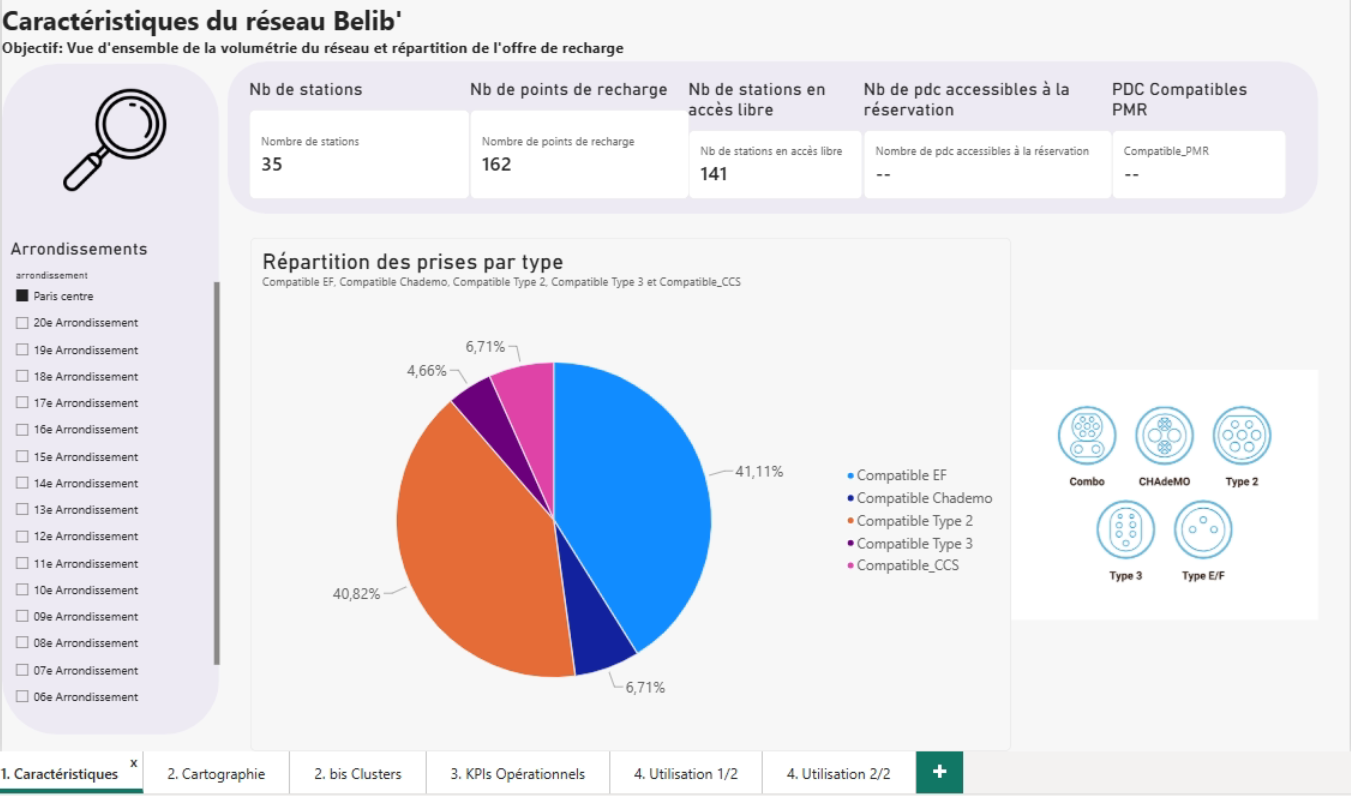

This screenshot's page, from the dashboard's own definition file:
{"tool":"powerbi","page":{"name":"1. Caractéristiques","canvas":[1920,1080],"ordinal":0},"visuals":[{"type":"shape","box":[0,100.8,309.3,955.3],"z":0},{"type":"shape","box":[321.3,97.4,1553.4,217],"z":1000},{"type":"cardVisual","title":"Nb de stations","fields":{"Data":["belib_db dim_statique.Nombre de stations"]},"box":[352.3,120.5,314,172],"z":2000},{"type":"cardVisual","title":"Nb de points de recharge","fields":{"Data":["belib_db dim_statique.Nombre de bornes"]},"box":[666.3,120.5,312,172],"z":3000},{"type":"cardVisual","title":"PDC Compatibles PMR","fields":{"Data":["belib_db dim_statique.Compatible_PMR"]},"box":[1580.3,120.5,248,172],"z":4000},{"type":"pieChart","title":"Répartition des prises par type","fields":{"Y":["belib_db dim_statique.Comaptible EF","belib_db dim_statique.Compatible Chademo","belib_db dim_statique.Compatible Type 2","belib_db dim_statique.Compatible Type 3","belib_db dim_statique.Compatible_CCS"]},"box":[353.7,348.6,1083.4,731.4],"z":5000},{"type":"textbox","box":[0,14,996,80],"z":6000},{"type":"slicer","title":"Arrondissements","fields":{"Values":["belib_db dim_statique.arrondissement"]},"box":[12,348,298,674],"z":7000},{"type":"cardVisual","title":"Nb de stations en accès libre","fields":{"Data":["belib_db dim_statique.Nb de stations en accès libre"]},"box":[978.3,120.5,248,172],"z":8000},{"type":"cardVisual","title":"Nb de pdc accessibles à la réservation","fields":{"Data":["belib_db dim_statique.Nombre de pdc accessibles à la réservation"]},"box":[1226.3,120.5,354,172],"z":9000},{"type":"image","box":[87.2,121.3,147,176],"z":10000},{"type":"image","box":[1437.2,348.6,437.5,731.4],"z":10001}]}

Visuals, with their boxes on the page's 1920x1080 design canvas (x1, y1, x2, y2). These are canvas units, not pixel positions in the 1351x796 screenshot, which may show the page scaled, cropped or inside an application window:
shape: l=0, t=101, r=309, b=1056
shape: l=321, t=97, r=1875, b=314
"Nb de stations" cardVisual: l=352, t=120, r=666, b=292
"Nb de points de recharge" cardVisual: l=666, t=120, r=978, b=292
"PDC Compatibles PMR" cardVisual: l=1580, t=120, r=1828, b=292
"Répartition des prises par type" pieChart: l=354, t=349, r=1437, b=1080
textbox: l=0, t=14, r=996, b=94
"Arrondissements" slicer: l=12, t=348, r=310, b=1022
"Nb de stations en accès libre" cardVisual: l=978, t=120, r=1226, b=292
"Nb de pdc accessibles à la réservation" cardVisual: l=1226, t=120, r=1580, b=292
image: l=87, t=121, r=234, b=297
image: l=1437, t=349, r=1875, b=1080
